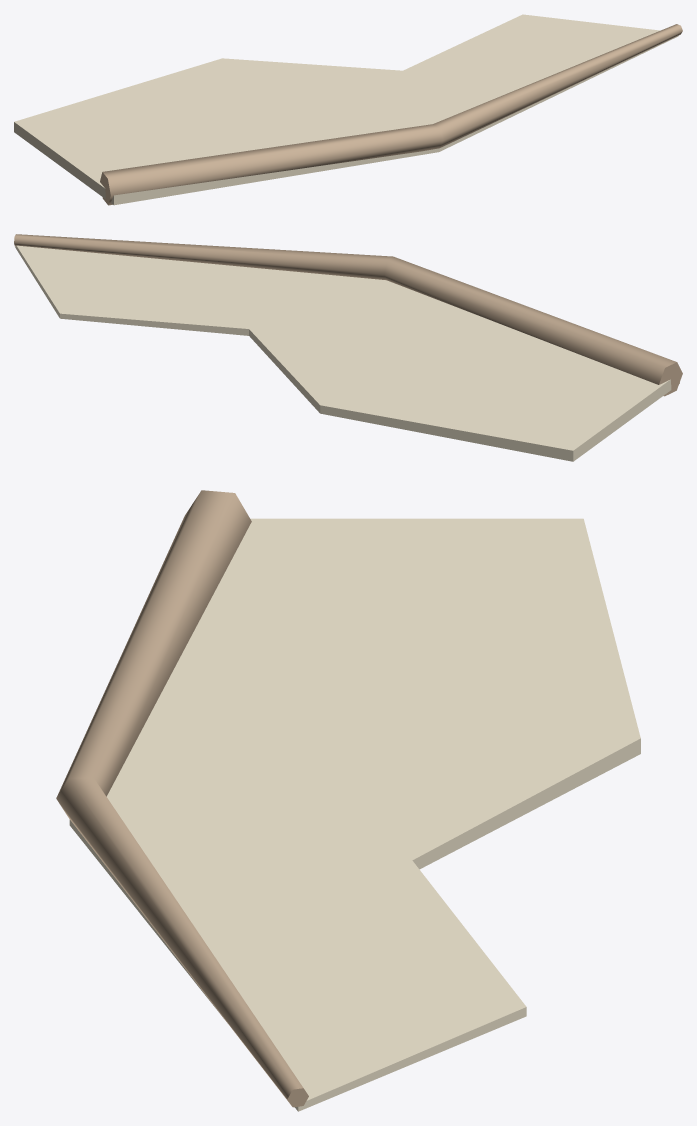
File: cr_wing_a.fbx
The picture shows the model from 3 angles, top to bottom: view 1: azimuth 30°, elevation 25°; view 2: azimuth 150°, elevation 25°; view 3: azimuth 270°, elevation 25°; orthographic projection. The views are drawn at different scales.
Visible parts, largest first — view 1: Wing; view 2: Wing; view 3: Wing.
Boxes of the visible parts, box(x1,y1,x2,y2) form: Wing: box(14, 14, 682, 205); Wing: box(14, 234, 682, 461); Wing: box(56, 490, 640, 1111).
Size of the model in its own units: 1.21 by 0.055 by 0.512.
